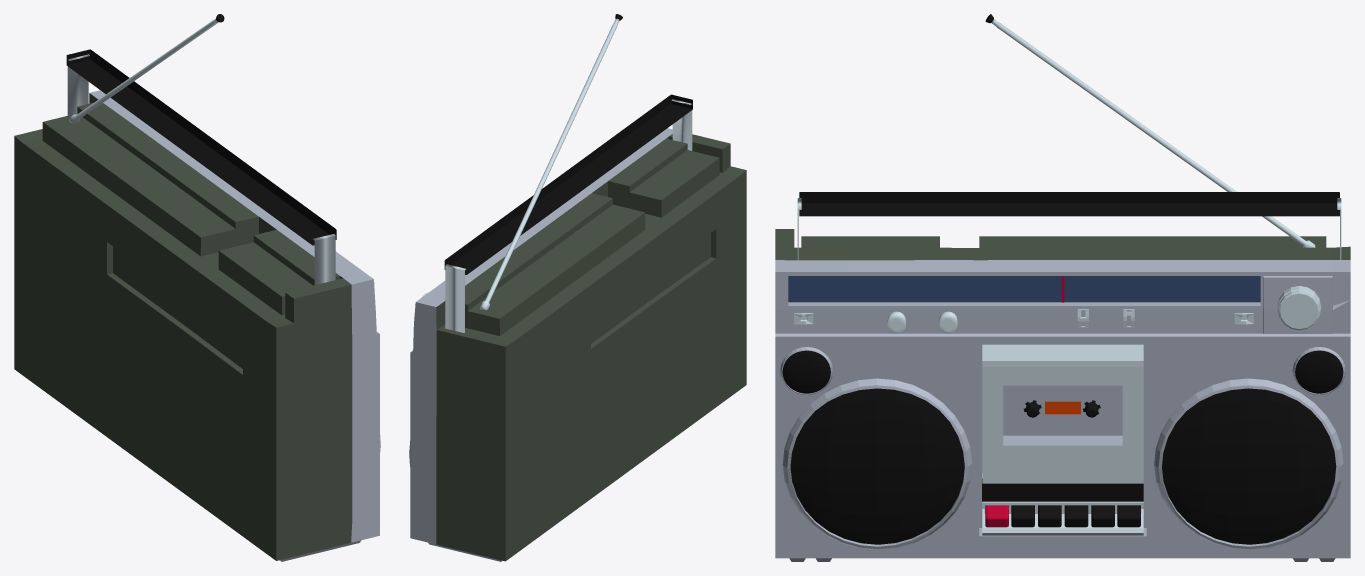
Rendered from radio senyo m9820k.glb.
3 renders of one model, left to right at view 1: azimuth 30°, elevation 25°; view 2: azimuth 150°, elevation 25°; view 3: azimuth 270°, elevation 25°, orthographic. The views are drawn at different scales.
Visible parts, largest first — view 1: Chassis; view 2: Chassis; view 3: Chassis.
Part boxes in pixels (left/top/right/bottom): Chassis: left=14, top=14, right=380, bottom=561; Chassis: left=409, top=14, right=746, bottom=561; Chassis: left=775, top=14, right=1350, bottom=561.
Bounding box in the file's own units: 0.2235 × 0.8848 × 0.886.
